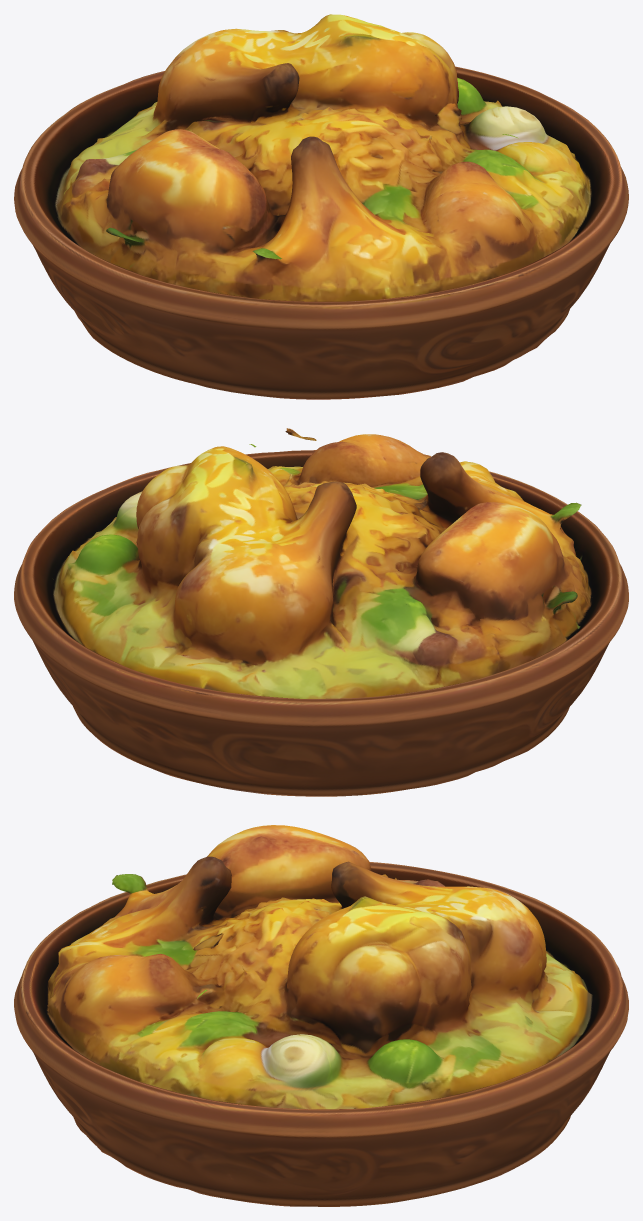
Rendered from biryani.glb.
3 views of the same model, one above another, from view 1: azimuth 30°, elevation 25°; view 2: azimuth 150°, elevation 25°; view 3: azimuth 270°, elevation 25° (orthographic).
Parts seen in each view (by area): view 1: model; view 2: model; view 3: model.
Part boxes in pixels (<box>): model: <box>14,14,628,399</box>; model: <box>14,428,628,796</box>; model: <box>14,825,628,1206</box>.
Size of the model in its own units: 1.89 by 0.7793 by 1.89.
1 material, 1 textured.
